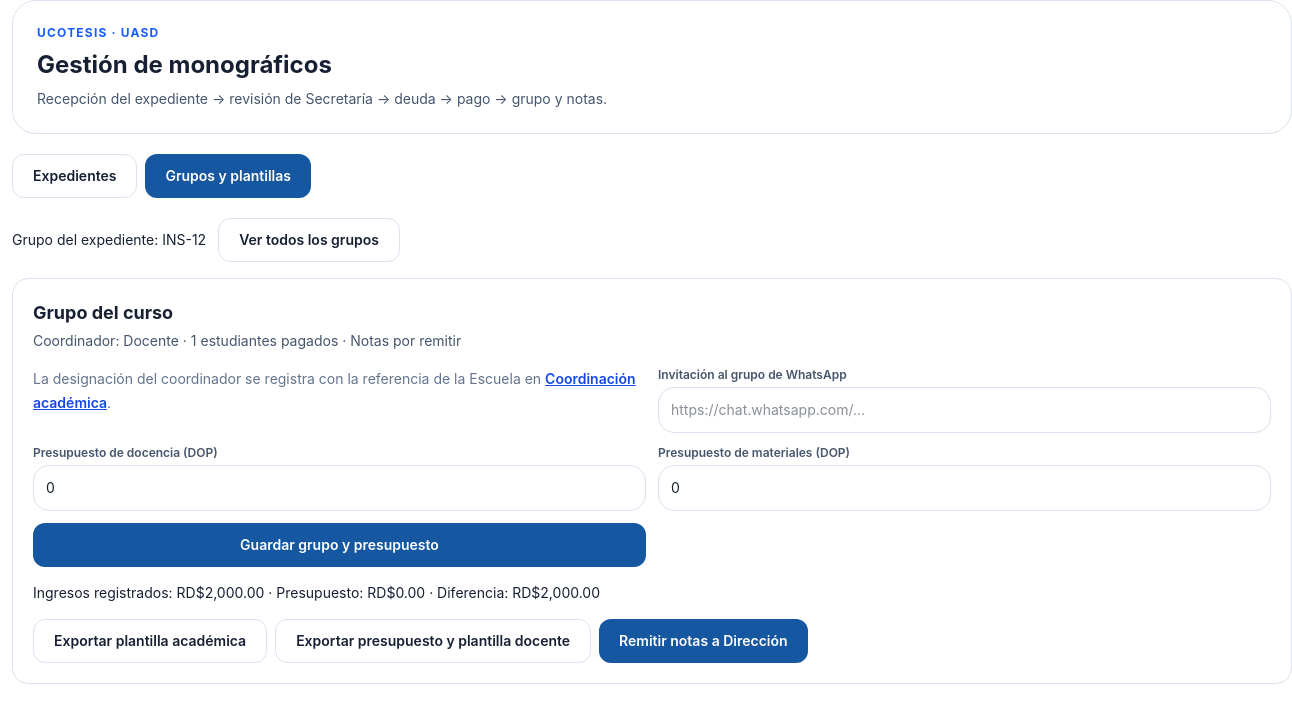
Test: abre el grupo del expediente aprobado y permite volver a todos los grupos
Expected: the heading "Grupo del curso" is shown, top-left (33, 302), bottom-right (173, 323)
Expected: the heading "Otro grupo" is not shown
Step 1. Click the button "Ver todos los grupos" → [309, 240], box top-left (218, 218), bottom-right (400, 262)
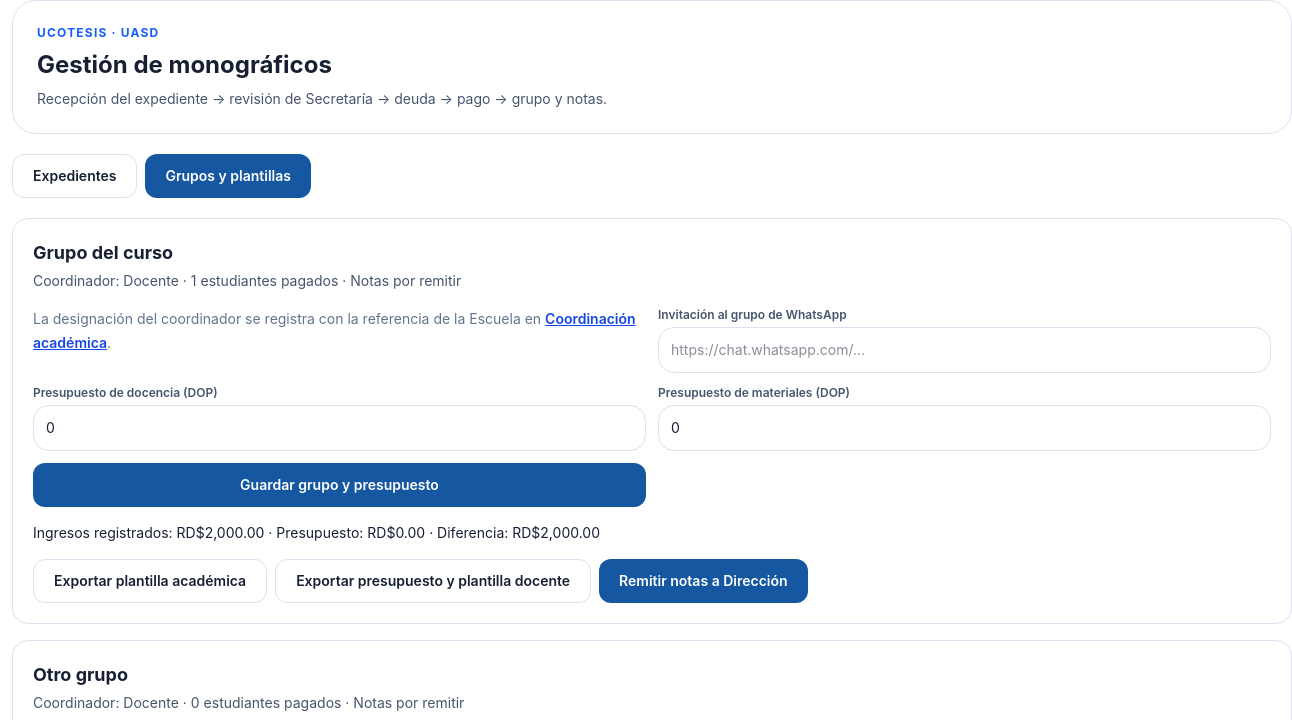
Result: the heading "Otro grupo" is shown at top-left (33, 664), bottom-right (128, 685)
